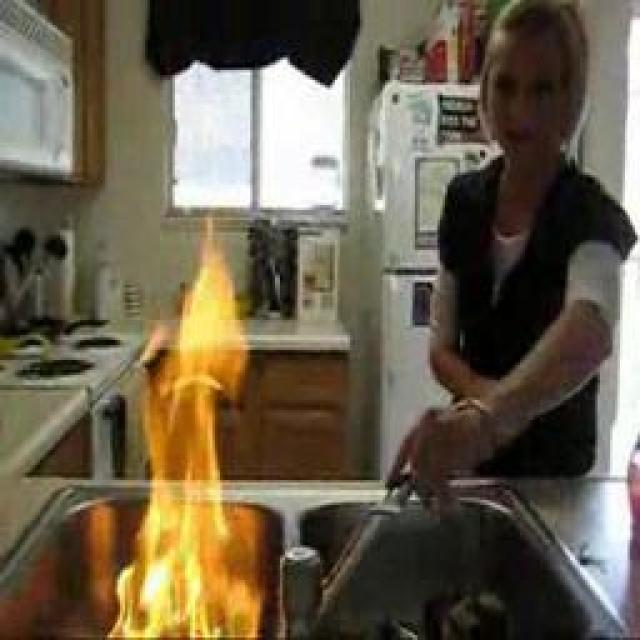Fire: (122, 250, 258, 640)
